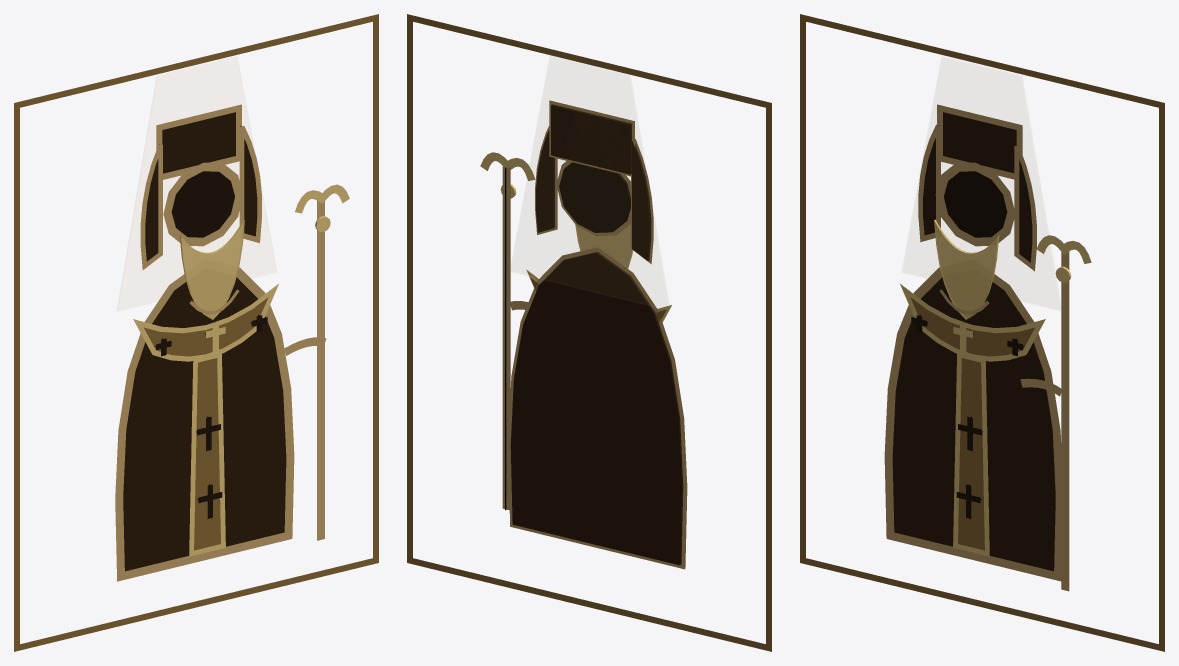
Rendered from npc-episkop-ioann.glb.
The picture shows the model from 3 angles, left to right: view 1: azimuth 30°, elevation 25°; view 2: azimuth 150°, elevation 25°; view 3: azimuth 330°, elevation 25°; orthographic projection.
Parts seen in each view (by area): view 1: npc-episkop-ioann; view 2: npc-episkop-ioann; view 3: npc-episkop-ioann.
Boxes of the visible parts, bbox=[...] form: npc-episkop-ioann: bbox=[14, 14, 378, 651]; npc-episkop-ioann: bbox=[407, 14, 771, 651]; npc-episkop-ioann: bbox=[800, 14, 1164, 651].
Bounding box in the file's own units: 1.14 × 1.64 × 0.1354.
